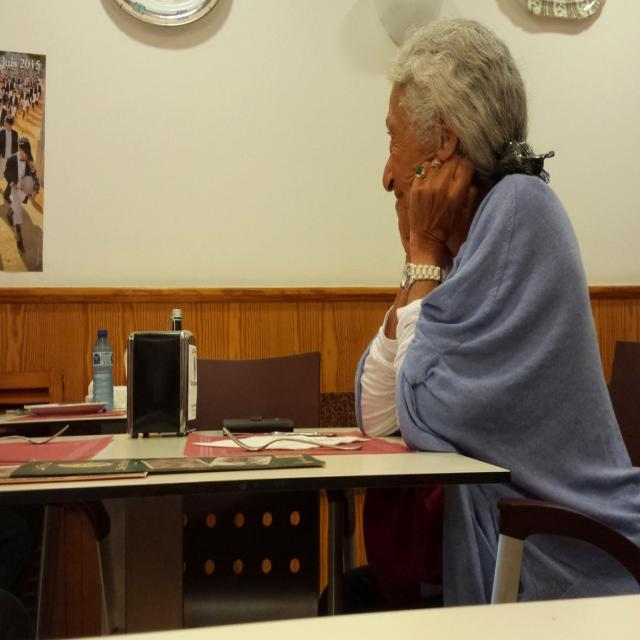chair: (490, 498, 640, 604), (608, 340, 640, 467)
desk: (0, 428, 511, 640)
person: (353, 17, 638, 613)
